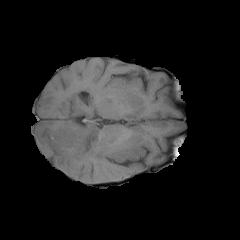glioma: (38, 96, 145, 182)
